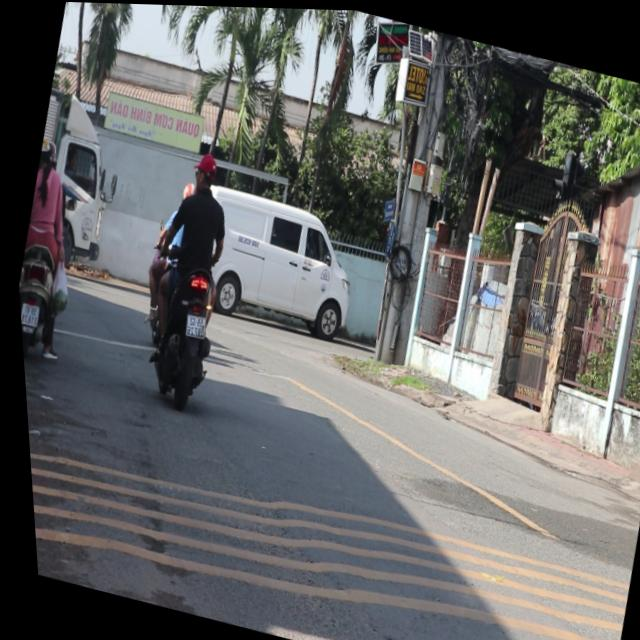helmet: (35, 138, 59, 172)
licenseplate: (112, 140, 255, 413), (7, 133, 103, 367)
motorcyclist: (189, 149, 220, 191)
nohelmet: (179, 312, 204, 338), (16, 302, 35, 325)
